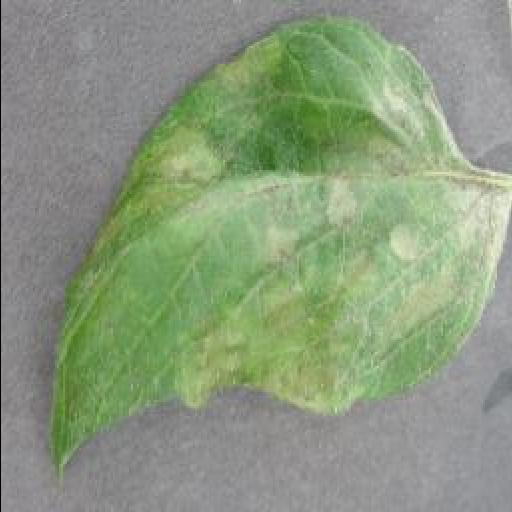disease_tomato: (34, 10, 512, 482)
